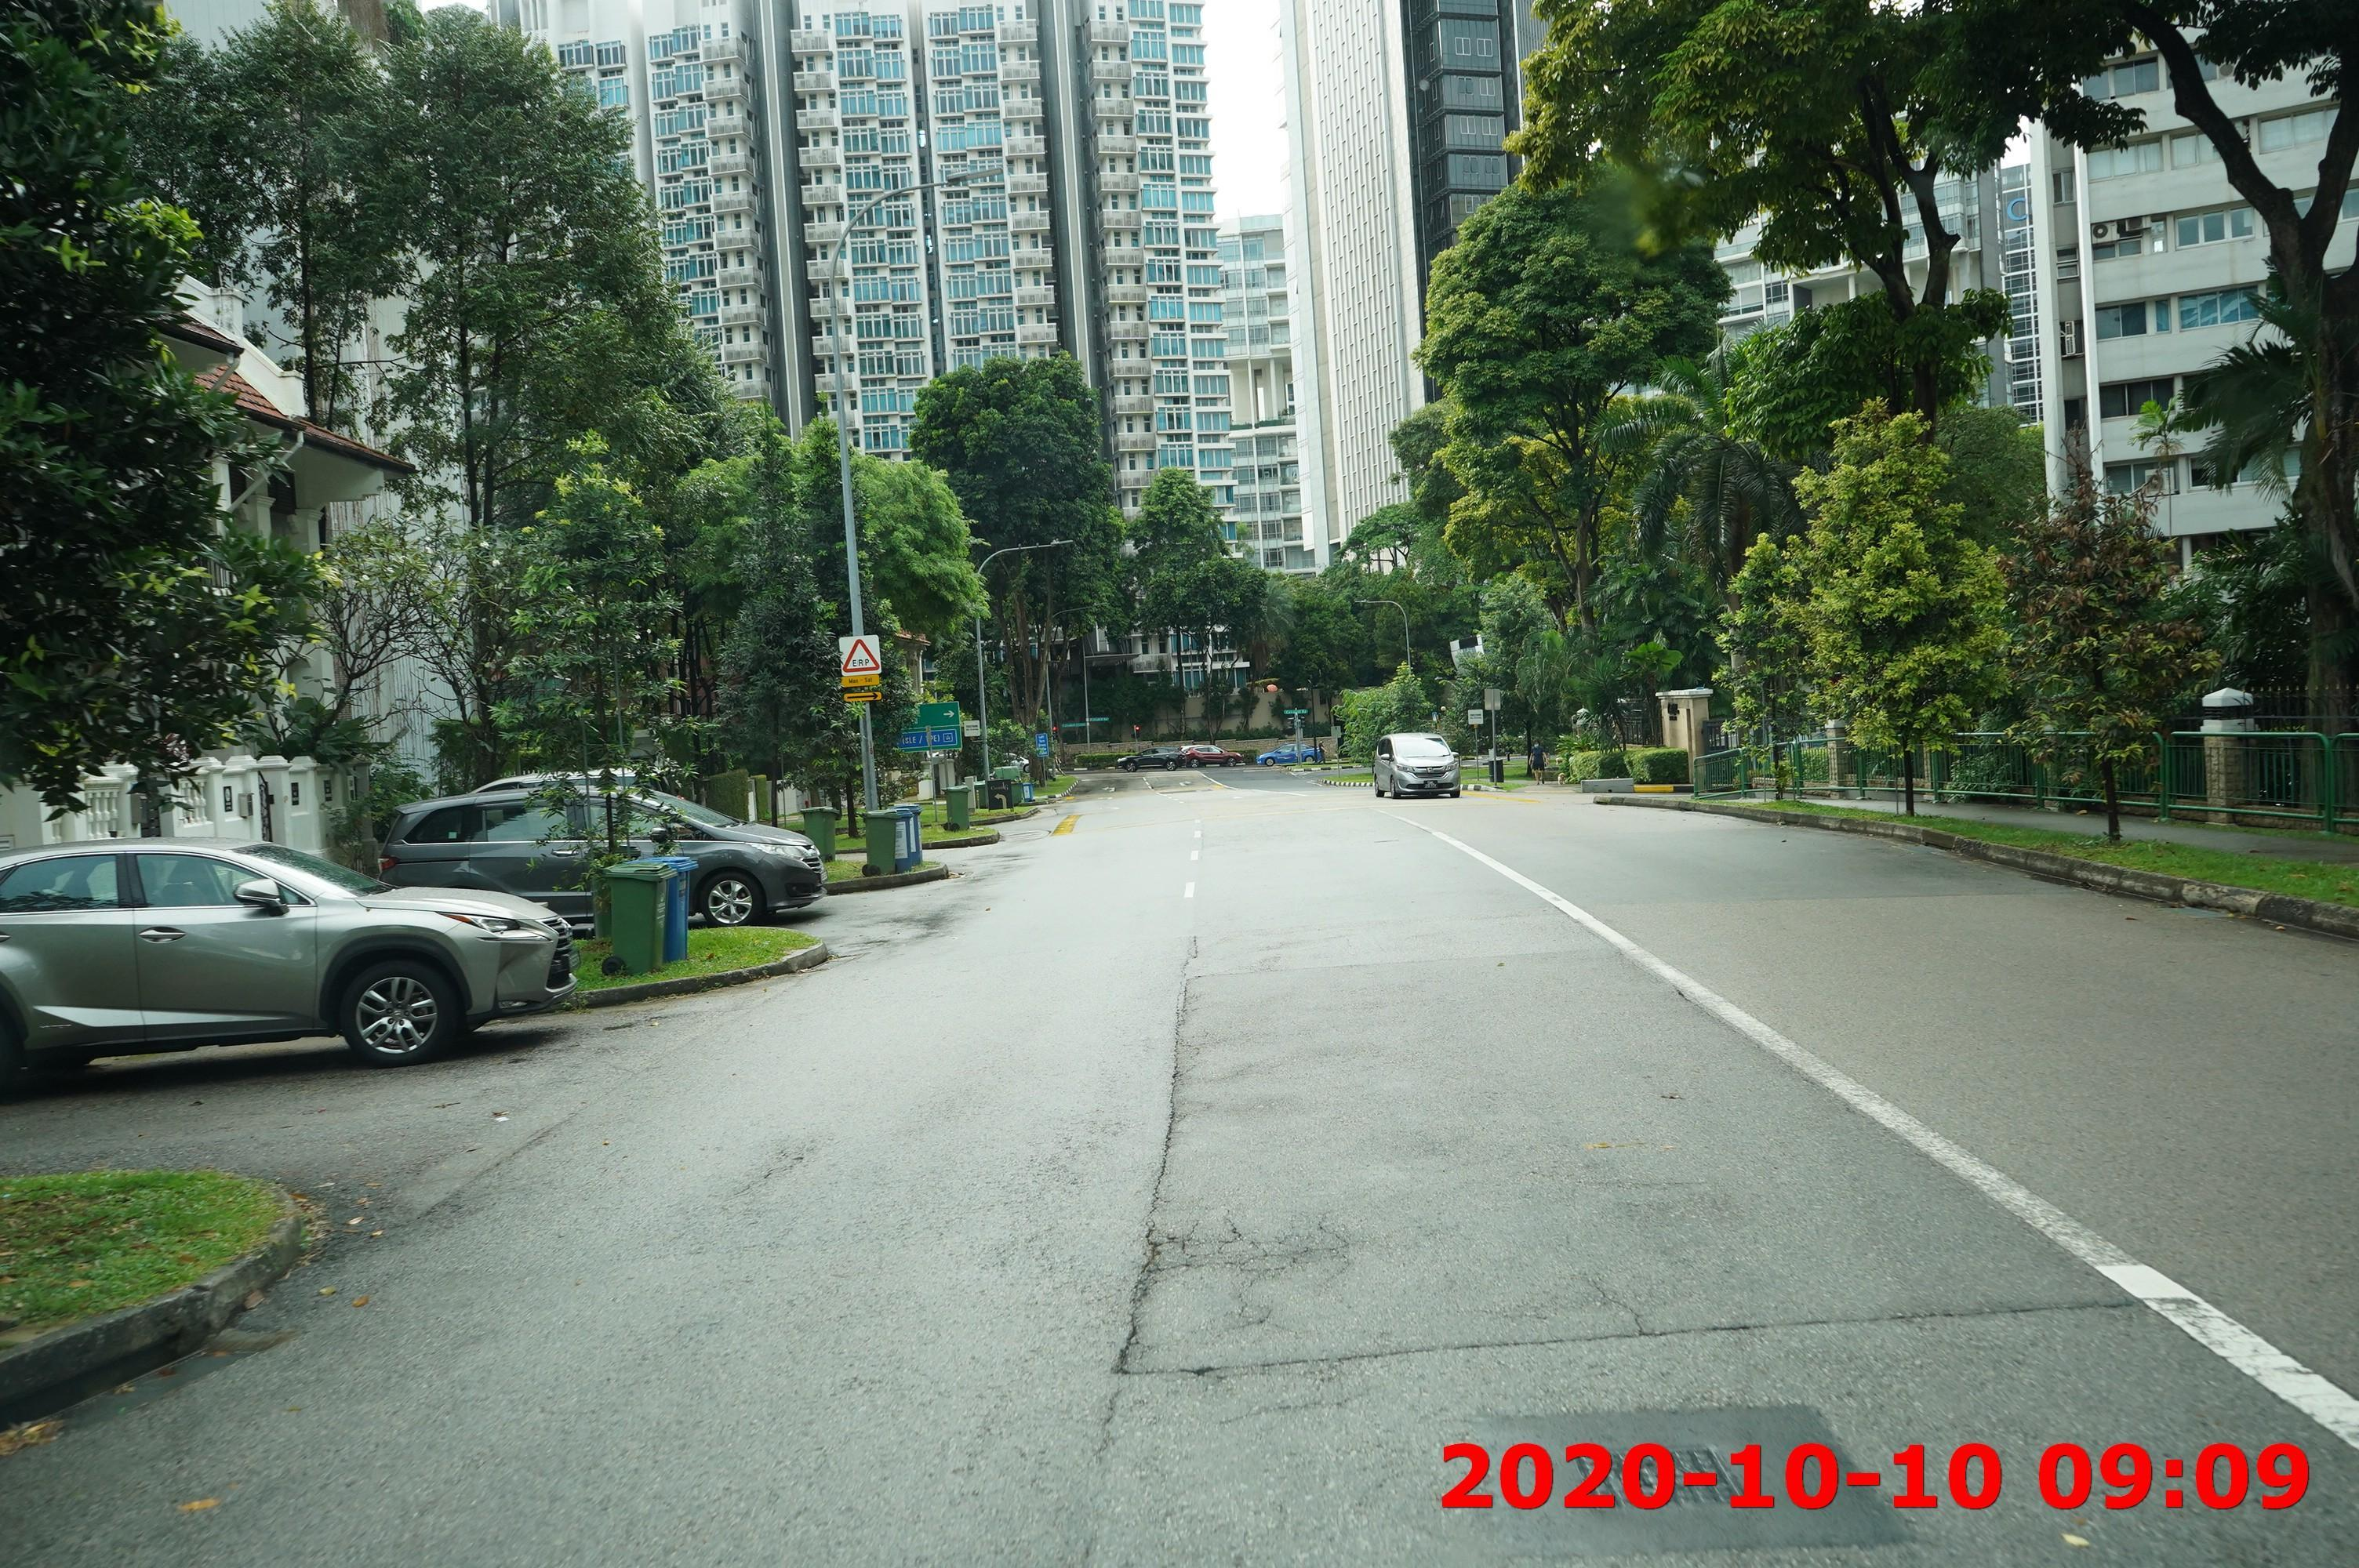block crack: (1090, 1192, 1386, 1426)
